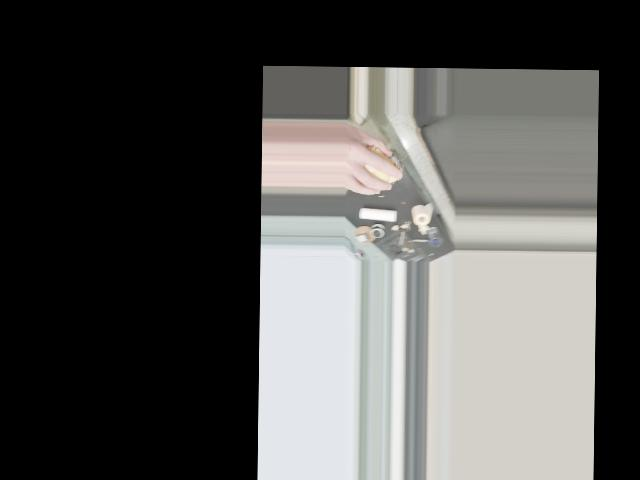onion: (356, 144, 401, 186)
